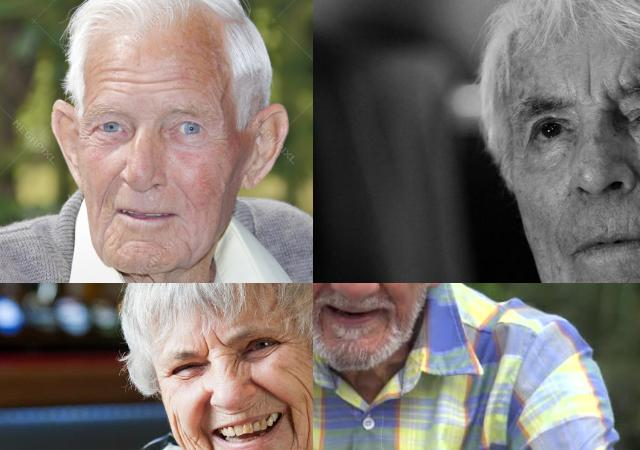bunny_line: (228, 356, 245, 380)
chin: (104, 219, 125, 254), (126, 231, 154, 249), (179, 237, 199, 257)
forehead: (138, 69, 190, 95), (98, 61, 132, 97)
frown_line: (200, 330, 226, 354), (582, 72, 596, 100)
gummy_smile: (253, 376, 284, 402), (100, 166, 118, 210), (175, 182, 195, 208), (376, 283, 393, 296), (313, 283, 331, 294)
masseter: (298, 380, 313, 450), (170, 415, 196, 450)
sad_smile: (284, 405, 301, 450), (197, 430, 222, 450)
